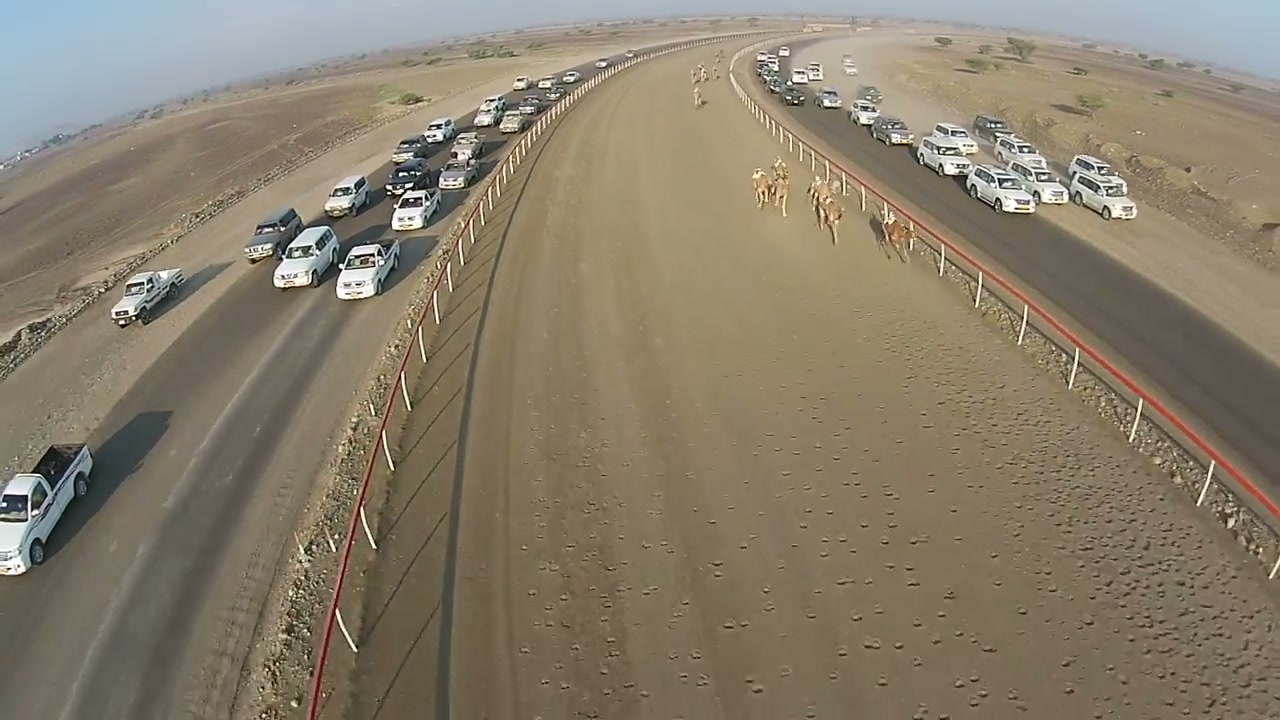animal_foot_print: (850, 231, 1270, 700), (826, 266, 1013, 715)
